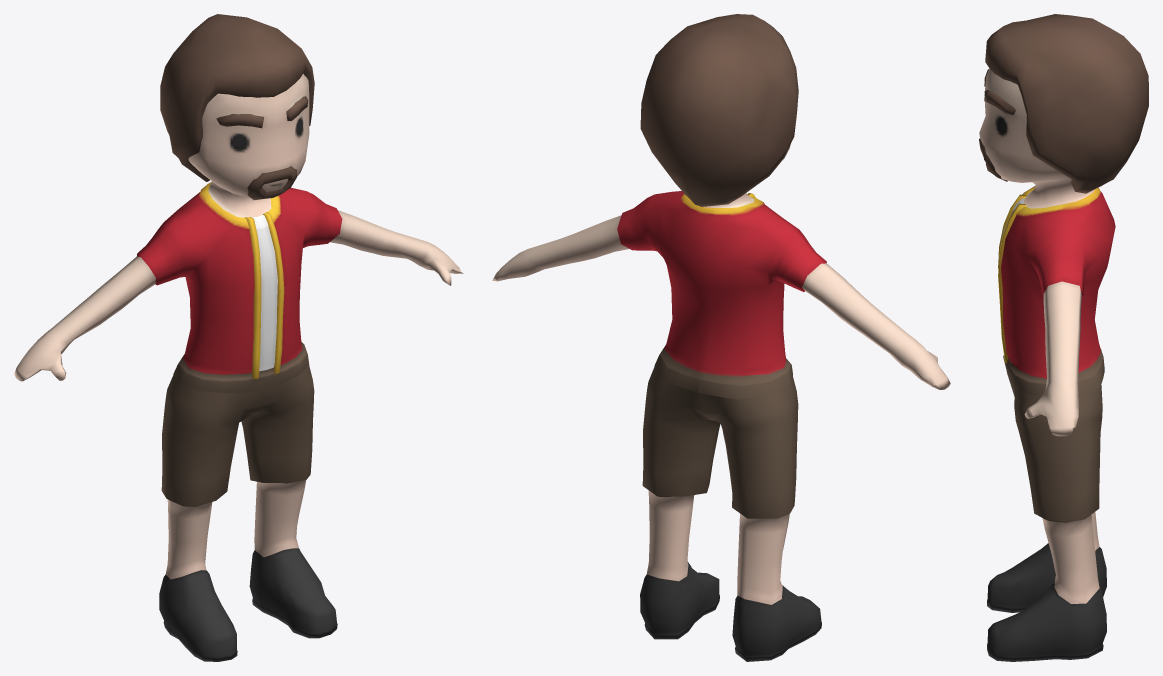
Rendered from Lewis.fbx.
The picture shows the model from 3 angles, left to right: view 1: azimuth 30°, elevation 25°; view 2: azimuth 150°, elevation 25°; view 3: azimuth 270°, elevation 25°; orthographic projection.
Parts seen in each view (by area): view 1: polySurface137; view 2: polySurface137; view 3: polySurface137.
Part boxes in pixels (<box>): polySurface137: <box>14,14,463,661</box>; polySurface137: <box>492,14,950,661</box>; polySurface137: <box>979,14,1148,661</box>.
Bounding box in the file's own units: 108 × 139 × 35.29.
